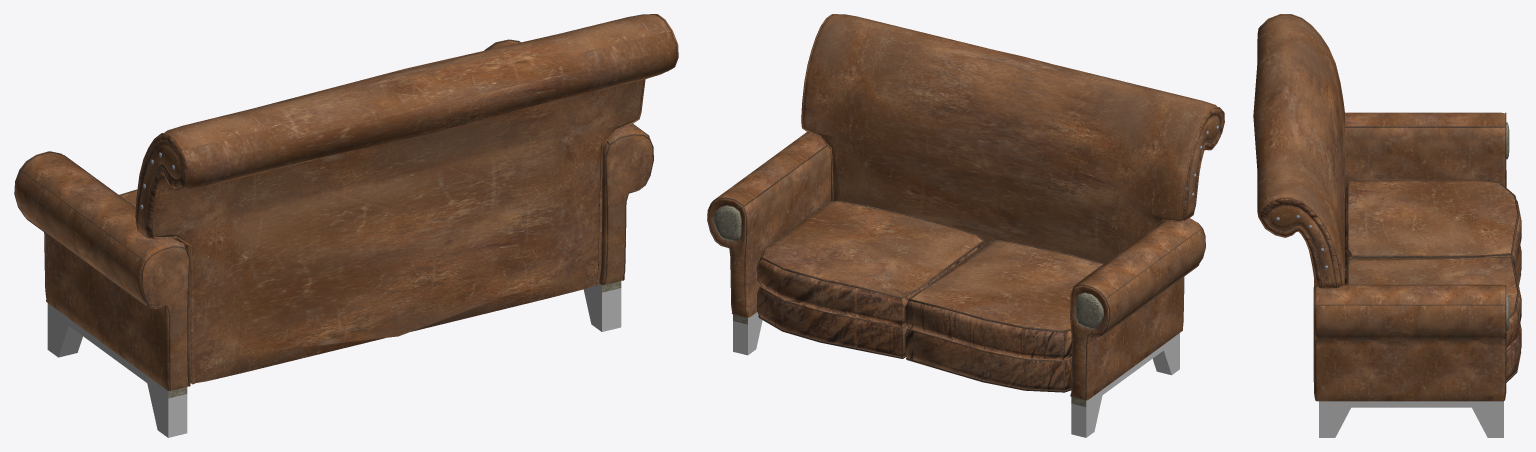
The model's file is SeatBDouble.fbx.
3 renders of one model, left to right at view 1: azimuth 30°, elevation 25°; view 2: azimuth 150°, elevation 25°; view 3: azimuth 270°, elevation 25°, orthographic. The views are drawn at different scales.
Parts seen in each view (by area): view 1: SeatBDouble; view 2: SeatBDouble; view 3: SeatBDouble.
Part boxes in pixels (<box>): SeatBDouble: <box>14,14,678,437</box>; SeatBDouble: <box>707,14,1224,437</box>; SeatBDouble: <box>1253,14,1521,437</box>.
Size of the model in its own units: 214 by 129 by 125.
